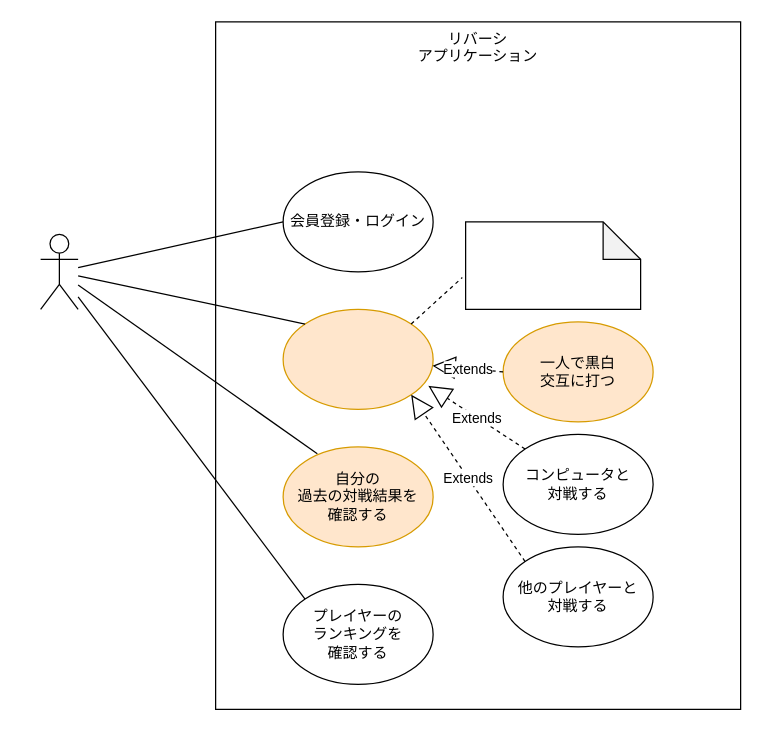
Image size: 763x731. Some labels were removed from this diagram. The shapes that lost their labels are listed below. From the top down, each one's box as (x1, y1, x2, y2) in pixels, then its label:
(39, 233, 78, 309): プレイヤー
(464, 221, 641, 309): ・対戦を開始する ・盤面を見る ・石を打つ ・勝敗を確認する
(282, 308, 433, 409): 対戦する
